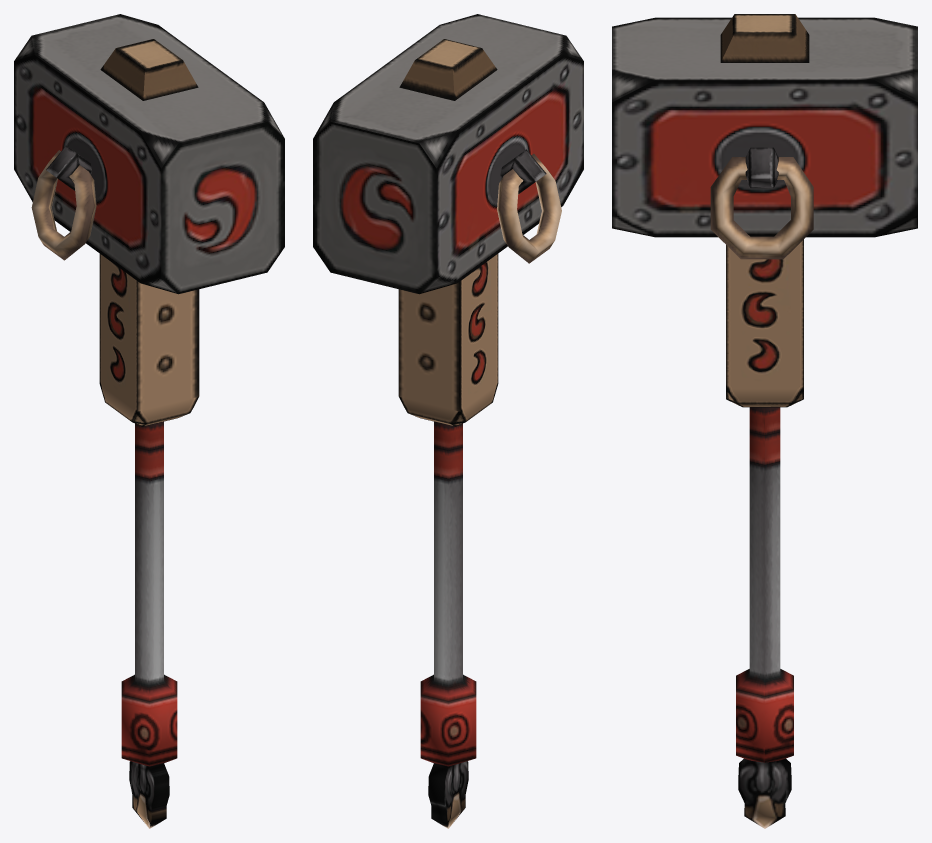
The model's file is WP_2H_HellishHammer_KS.FBX.
3 renders of one model, left to right at view 1: azimuth 30°, elevation 25°; view 2: azimuth 150°, elevation 25°; view 3: azimuth 270°, elevation 25°, orthographic. The views are drawn at different scales.
Parts seen in each view (by area): view 1: WP_2H_HellishHammer_KS; view 2: WP_2H_HellishHammer_KS; view 3: WP_2H_HellishHammer_KS.
Boxes of the visible parts, x1=… form: WP_2H_HellishHammer_KS: x1=14, y1=14, x2=284, y2=828; WP_2H_HellishHammer_KS: x1=313, y1=14, x2=583, y2=828; WP_2H_HellishHammer_KS: x1=612, y1=14, x2=917, y2=828.
Bounding box in the file's own units: 39.36 × 141 × 48.67.
